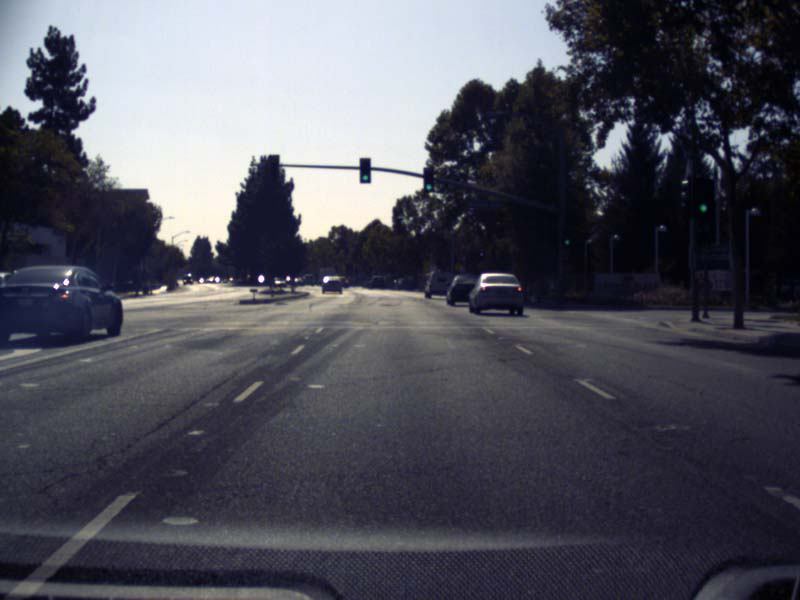Green: (692, 179, 713, 219), (359, 158, 370, 182), (423, 167, 433, 190), (562, 223, 571, 247)
